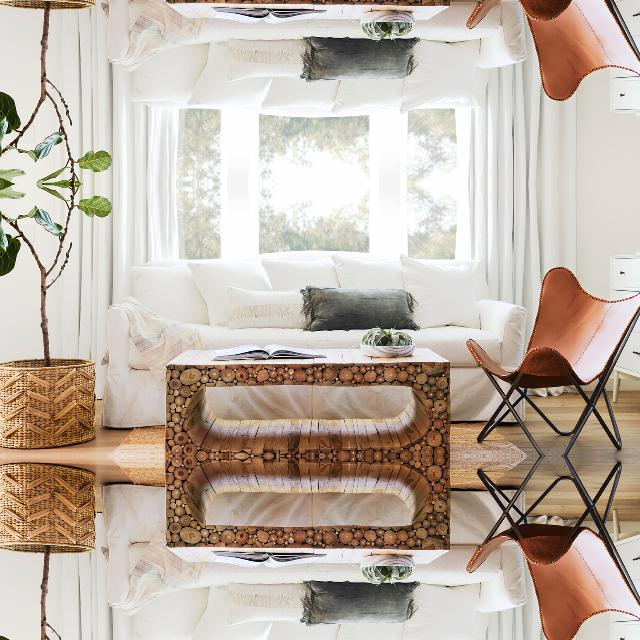couch: (104, 257, 527, 425), (104, 487, 527, 640), (104, 0, 527, 109)
pillow: (304, 286, 421, 328), (304, 38, 421, 80), (304, 584, 421, 626), (224, 285, 306, 329), (224, 37, 306, 81), (224, 583, 306, 627)
